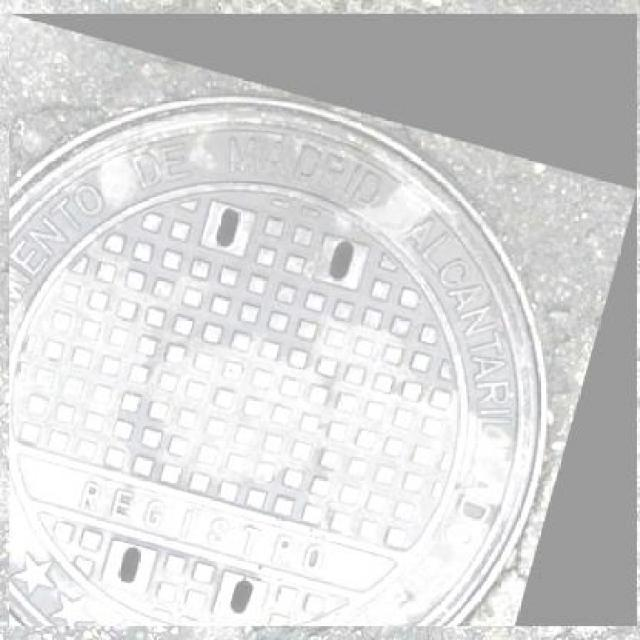Manhole: (10, 14, 638, 626)
